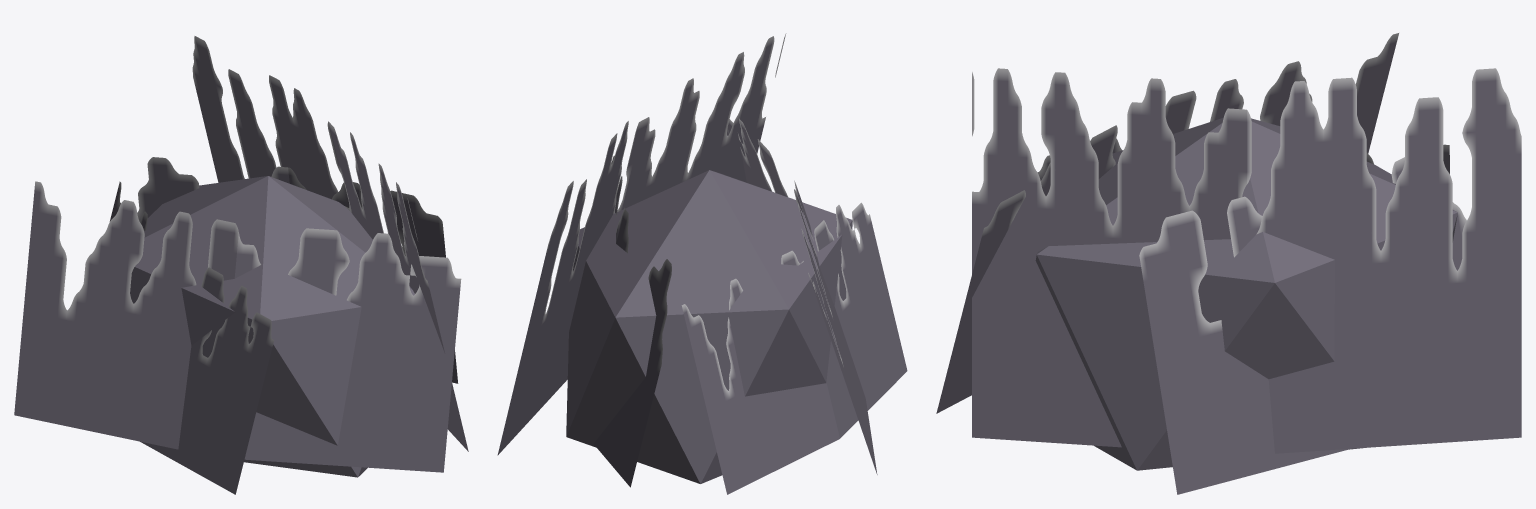
File: arbusto.fbx
3 views of the same model, side by side, from view 1: azimuth 30°, elevation 25°; view 2: azimuth 150°, elevation 25°; view 3: azimuth 270°, elevation 25° (orthographic). The views are drawn at different scales.
Visible parts, largest first — view 1: arbusto; view 2: arbusto; view 3: arbusto.
Part boxes in pixels (x1,y1,x2,y2): arbusto: (14, 36, 468, 494); arbusto: (497, 33, 907, 494); arbusto: (936, 33, 1521, 494).
Bounding box in the file's own units: 111 × 85.39 × 122.
